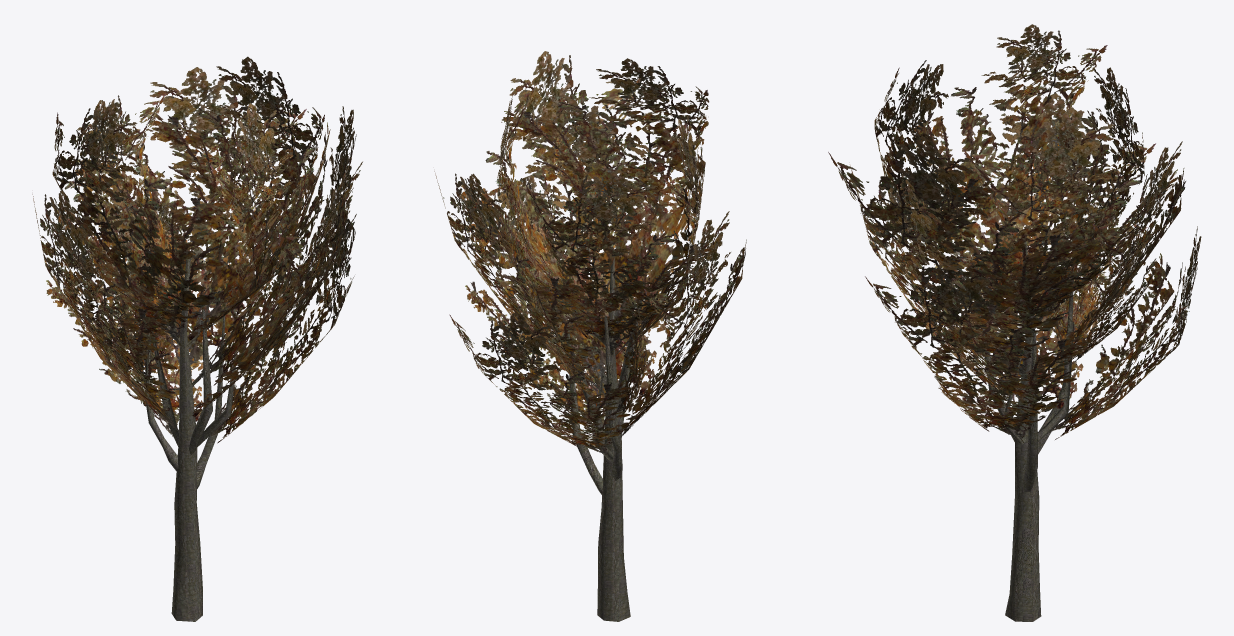
The model's file is tree_decid_small3_leaf.fbx.
3 renders of one model, left to right at view 1: azimuth 30°, elevation 25°; view 2: azimuth 150°, elevation 25°; view 3: azimuth 270°, elevation 25°, orthographic. The views are drawn at different scales.
Visible parts, largest first — view 1: mesh_0, mesh_1; view 2: mesh_0, mesh_1; view 3: mesh_0, mesh_1.
Part boxes in pixels (box(x1,y1,x2,y2)): mesh_0: box(32, 56, 362, 443); mesh_1: box(145, 250, 237, 621); mesh_0: box(434, 51, 746, 455); mesh_1: box(564, 257, 644, 621); mesh_0: box(828, 24, 1201, 442); mesh_1: box(975, 237, 1074, 621).
Size of the model in its own units: 495 by 742 by 497.
2 materials, 2 textured.
